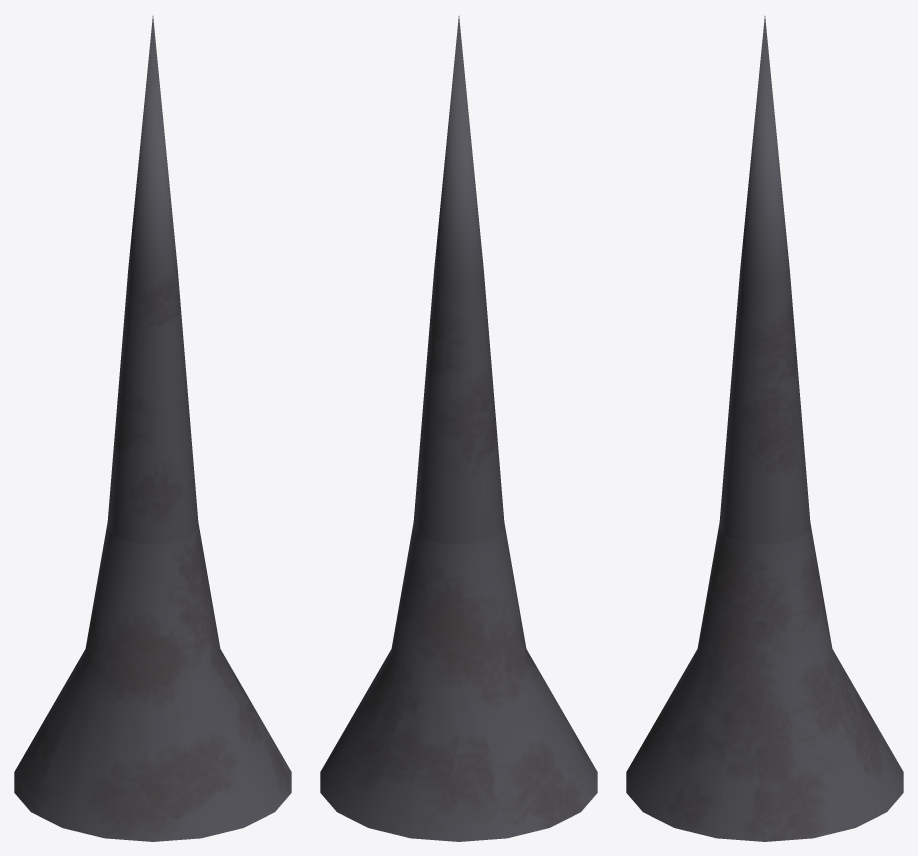
The model's file is stalag3.fbx.
The picture shows the model from 3 angles, left to right: view 1: azimuth 30°, elevation 25°; view 2: azimuth 150°, elevation 25°; view 3: azimuth 270°, elevation 25°; orthographic projection.
Parts seen in each view (by area): view 1: Stalag3; view 2: Stalag3; view 3: Stalag3.
Boxes of the visible parts, box(x1,y1,x2,y2) form: Stalag3: box(14, 16, 291, 841); Stalag3: box(320, 16, 597, 841); Stalag3: box(626, 16, 903, 841).
Bounding box in the file's own units: 46.57 × 140 × 45.86.
1 material, 1 textured.
